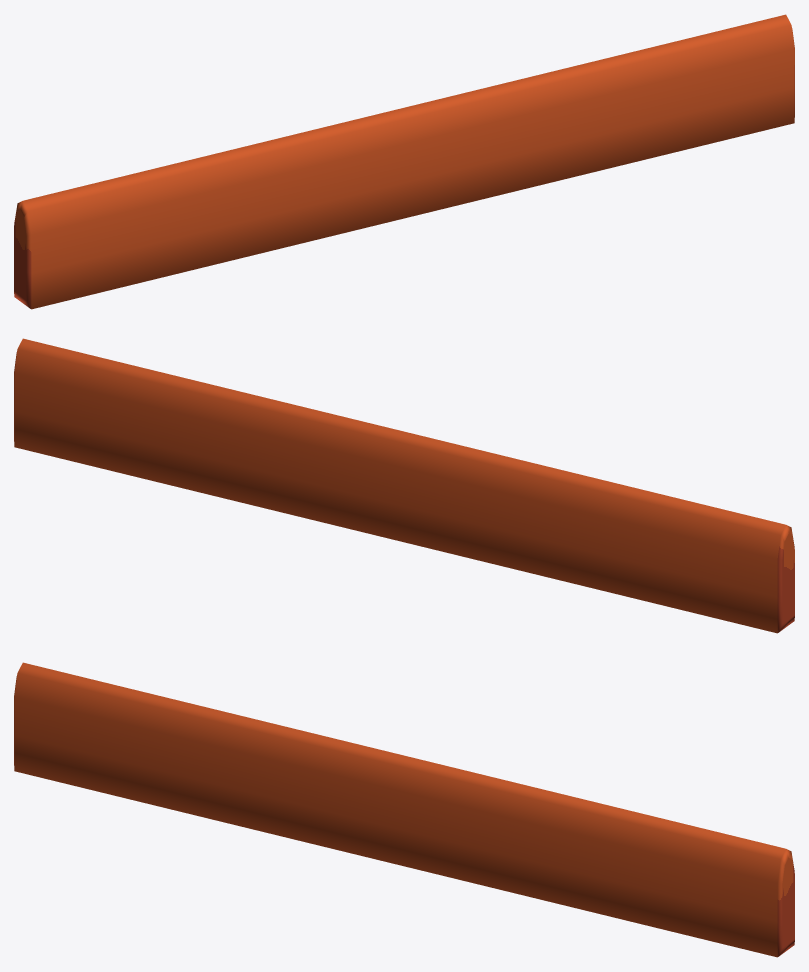
Rendered from NormalContent.fbx.
The picture shows the model from 3 angles, top to bottom: view 1: azimuth 30°, elevation 25°; view 2: azimuth 150°, elevation 25°; view 3: azimuth 330°, elevation 25°; orthographic projection.
Visible parts, largest first — view 1: BasicObstacle; view 2: BasicObstacle; view 3: BasicObstacle.
Part boxes in pixels (left/top/right/bottom): BasicObstacle: left=14, top=14, right=794, bottom=309; BasicObstacle: left=14, top=338, right=794, bottom=633; BasicObstacle: left=14, top=662, right=794, bottom=957.
Bounding box in the file's own units: 3.13 × 0.3992 × 0.1195.
Materials: 1 (1 with a texture image).
